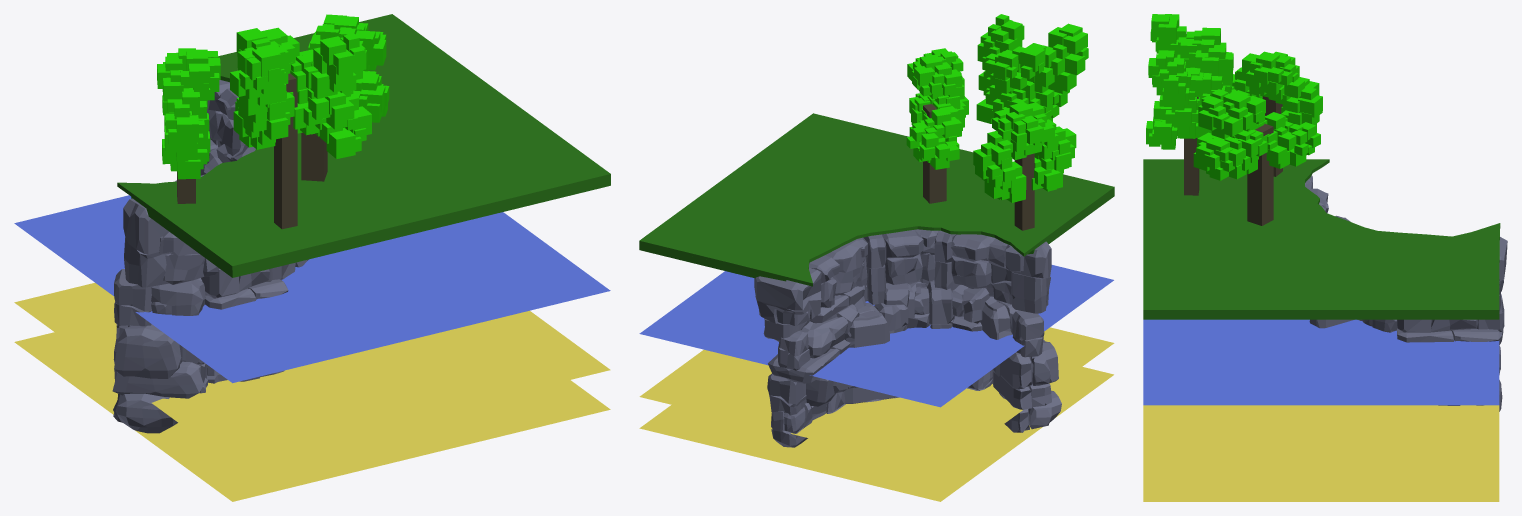
Rendered from 51__tile.fbx.
3 renders of one model, left to right at view 1: azimuth 30°, elevation 25°; view 2: azimuth 150°, elevation 25°; view 3: azimuth 270°, elevation 25°, orthographic. The views are drawn at different scales.
Parts seen in each view (by area): view 1: 51__tile; view 2: 51__tile; view 3: 51__tile.
Boxes of the visible parts, box(x1,y1,x2,y2) form: 51__tile: box(14, 14, 610, 501); 51__tile: box(639, 14, 1114, 501); 51__tile: box(1143, 14, 1507, 501).
Size of the model in its own units: 213 by 218 by 205.
